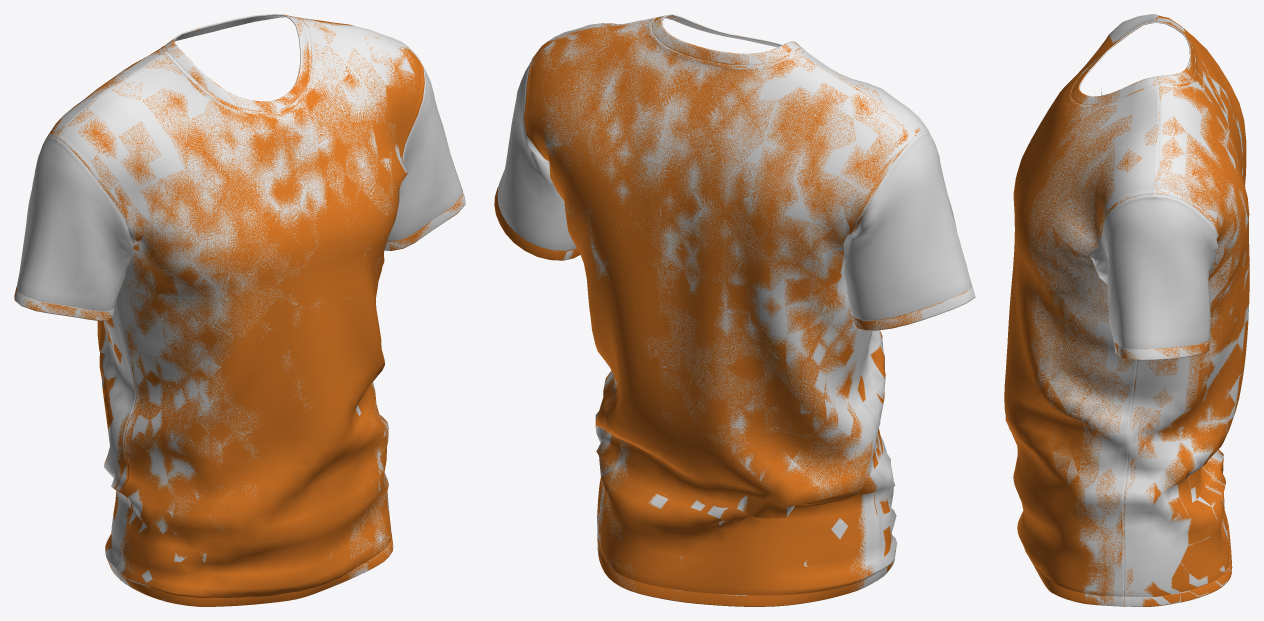
Rendered from tshirt_round_neck_men.gltf.
3 views of the same model, side by side, from view 1: azimuth 30°, elevation 25°; view 2: azimuth 150°, elevation 25°; view 3: azimuth 270°, elevation 25° (orthographic). The views are drawn at different scales.
Visible parts, largest first — view 1: _base, front, sleeves, back, neck, sleeves-line; view 2: _base, back, sleeves, front, neck, sleeves-line; view 3: _base, front, back, sleeves, neck, sleeves-line.
Part boxes in pixels (left/top/right/bottom): _base: left=14, top=14, right=463, bottom=606; front: left=58, top=19, right=420, bottom=600; sleeves: left=17, top=59, right=462, bottom=310; back: left=48, top=17, right=368, bottom=579; neck: left=164, top=14, right=309, bottom=111; sleeves-line: left=14, top=187, right=465, bottom=320; _base: left=494, top=15, right=969, bottom=606; back: left=527, top=18, right=916, bottom=600; sleeves: left=497, top=55, right=972, bottom=320; front: left=547, top=17, right=928, bottom=579; neck: left=651, top=14, right=803, bottom=66; sleeves-line: left=494, top=194, right=975, bottom=330; _base: left=1004, top=15, right=1249, bottom=606; front: left=1028, top=14, right=1159, bottom=606; back: left=1123, top=14, right=1249, bottom=606; sleeves: left=1089, top=87, right=1218, bottom=348; neck: left=1076, top=21, right=1195, bottom=104; sleeves-line: left=1114, top=340, right=1209, bottom=360.
Size of the model in its own units: 51.48 by 57.15 by 25.2.
